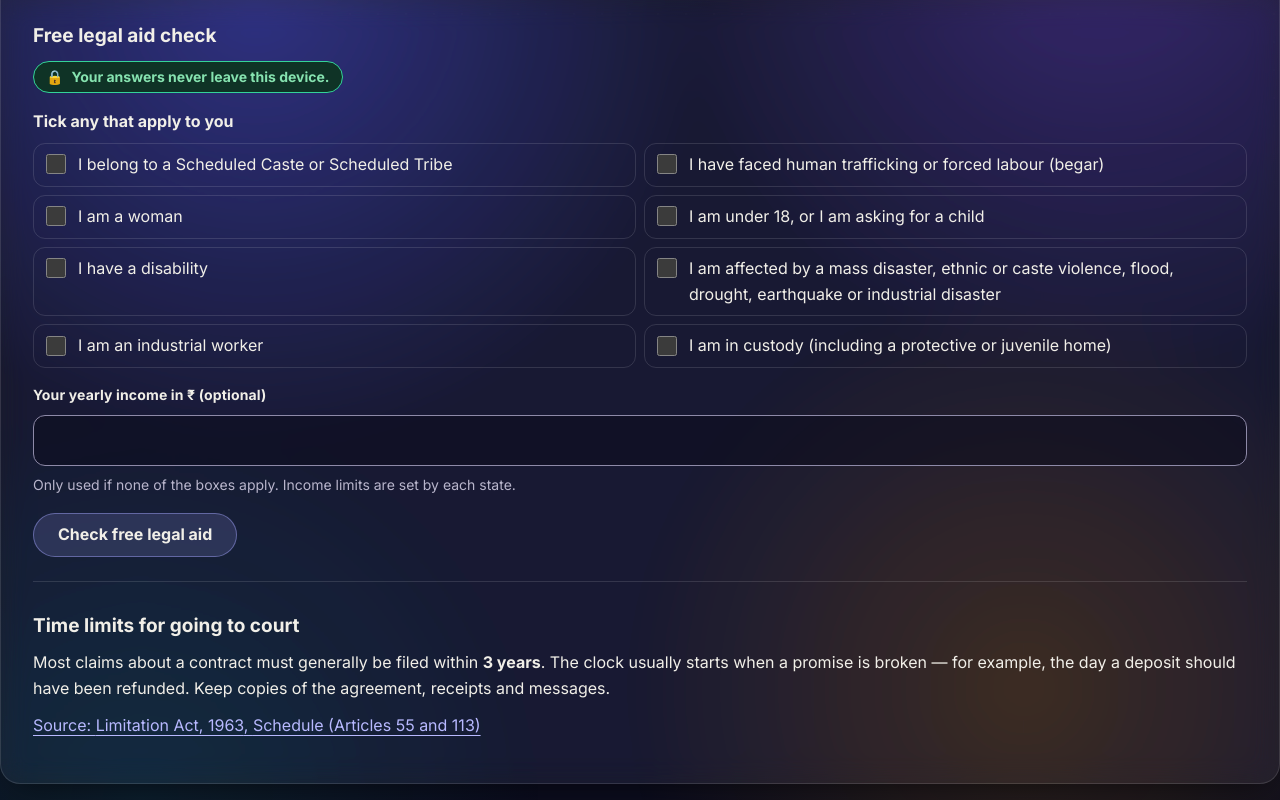
Test: NextStepsPanel › uses the income when no category applies, and rejects non-numbers
This screenshot has width=1280, height=800.
(page scrolled)
Type "2,40,000" into the field labelled "Your yearly income in ₹ (optional)".
click(640, 440); type("2,40,000")  # box [33,415,1247,466]
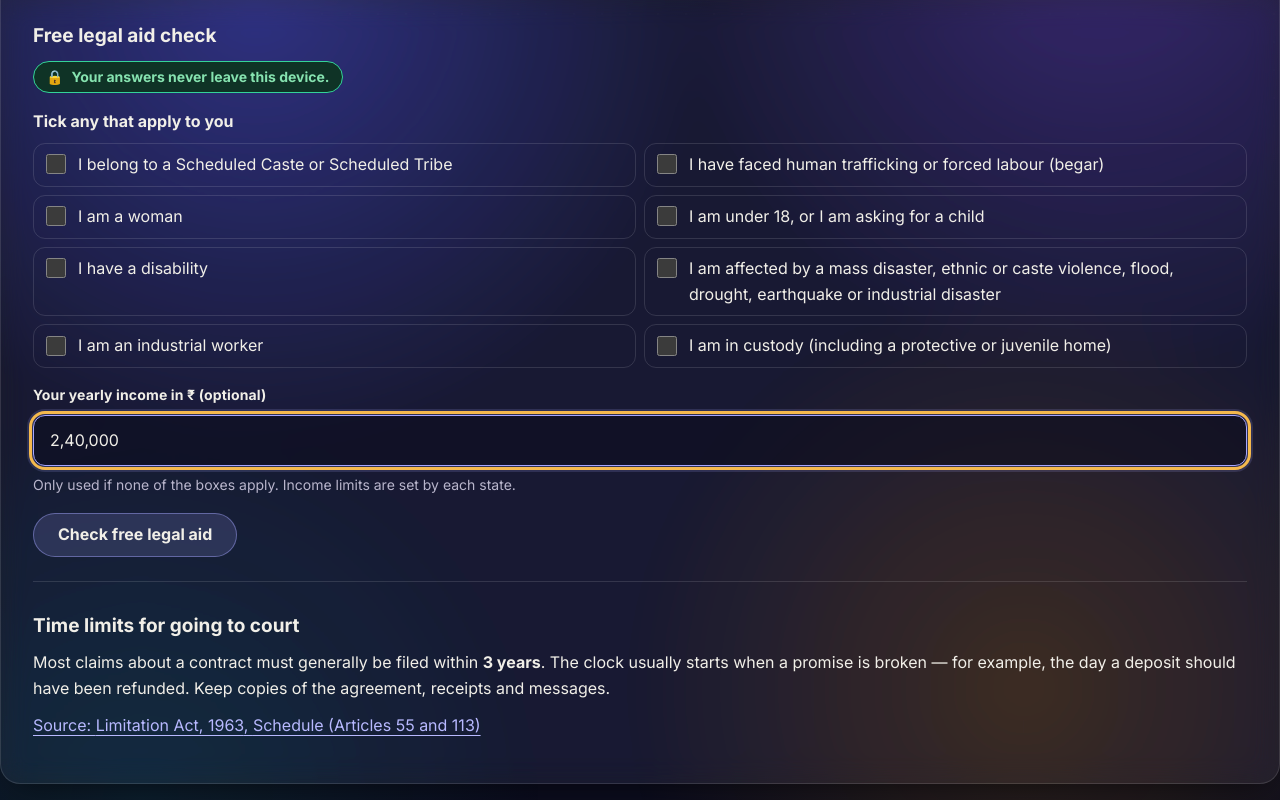
Click the button "Check free legal aid".
click(135, 535)  # box [33,513,237,557]
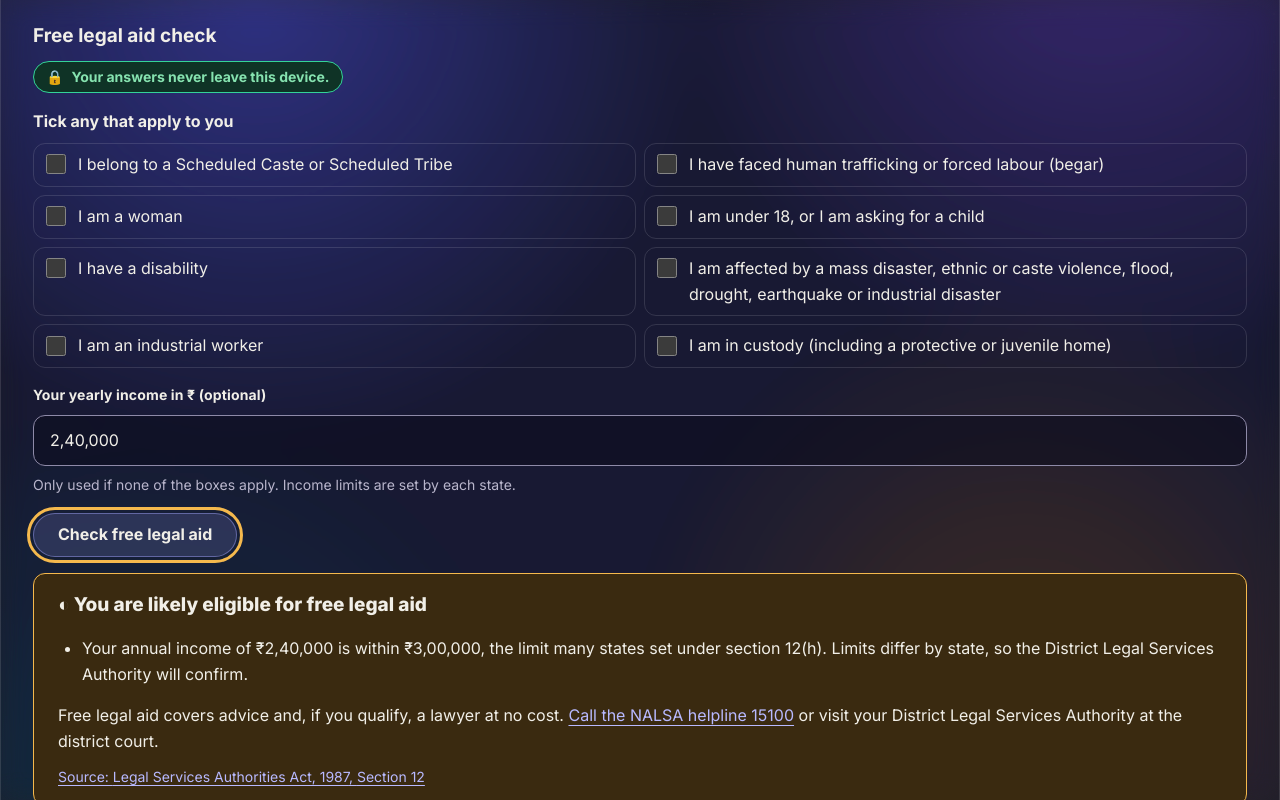
expect the text "You are likely eligible for free legal aid" is shown: met, box [74,593,427,616]
Replace the text in the field labelled "Your yearly income in ₹ (optional)" with "about two lakh" at [640, 440], box [33,415,1247,466]
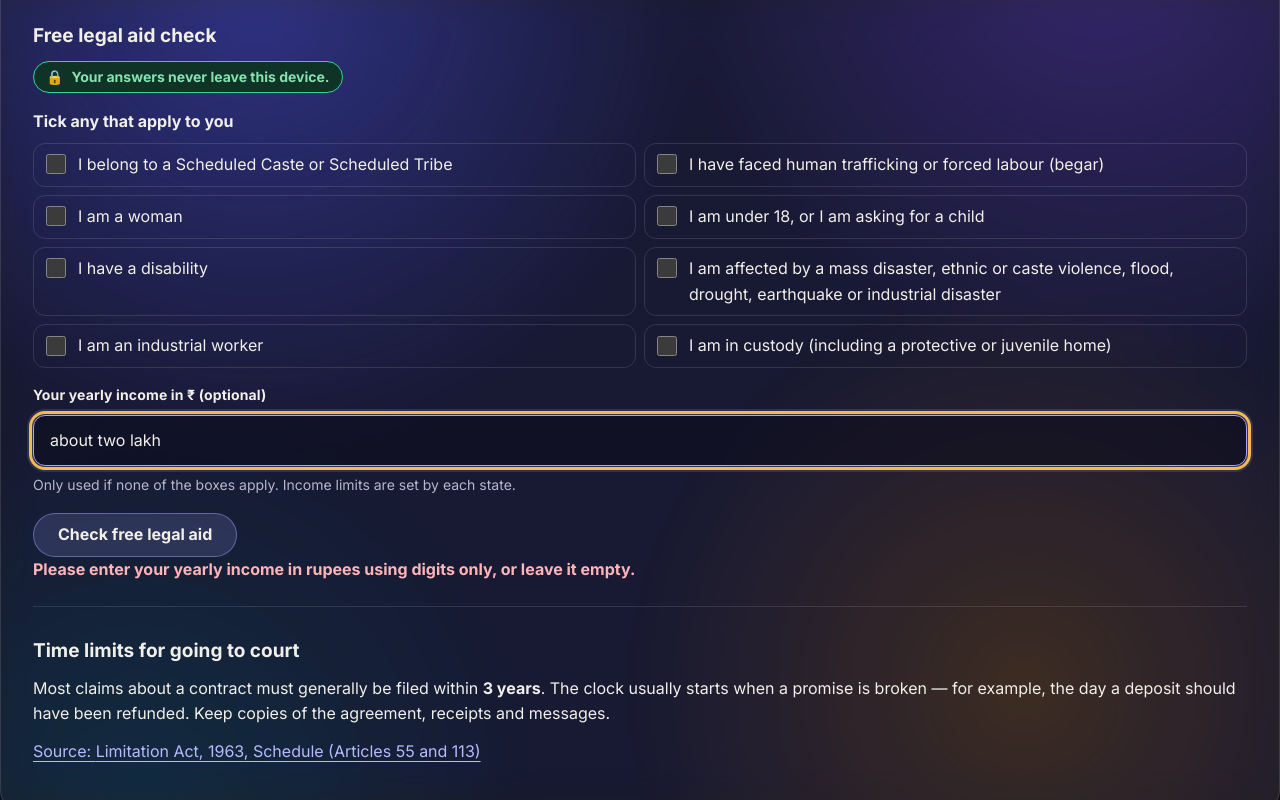
expect the text "using digits only" is shown: met, box [33,559,635,579]
